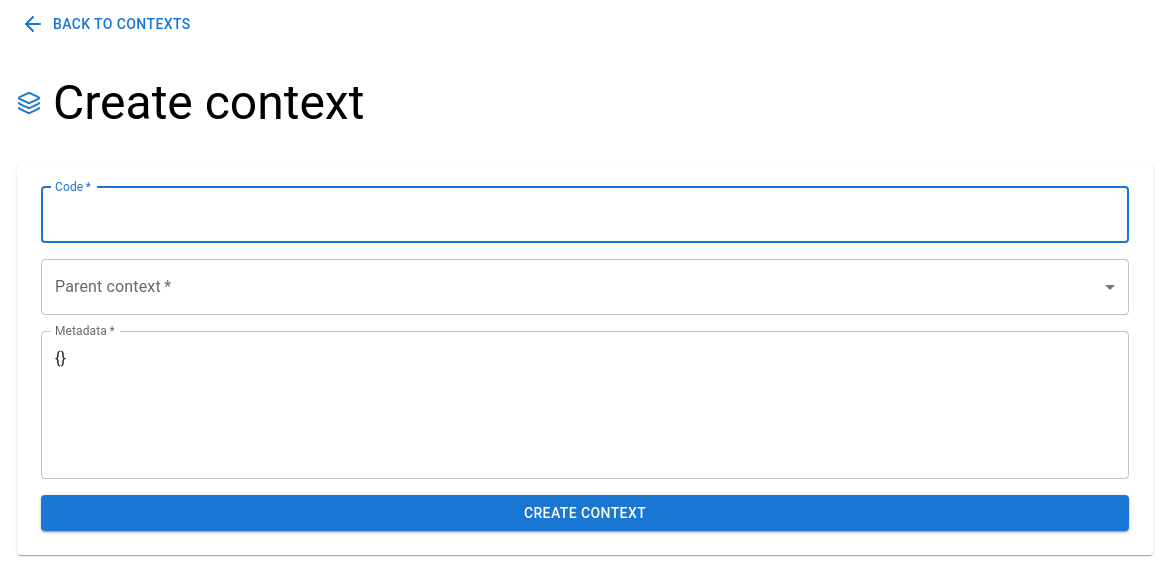
Test case: CreateContextPage › keeps the submitted context fields fixed until creation finishes
The width and height of the screenshot is (1171, 574).
Type "example" into the field labelled "Code" at (585, 214), box x1=41 y1=186 x2=1129 y2=242
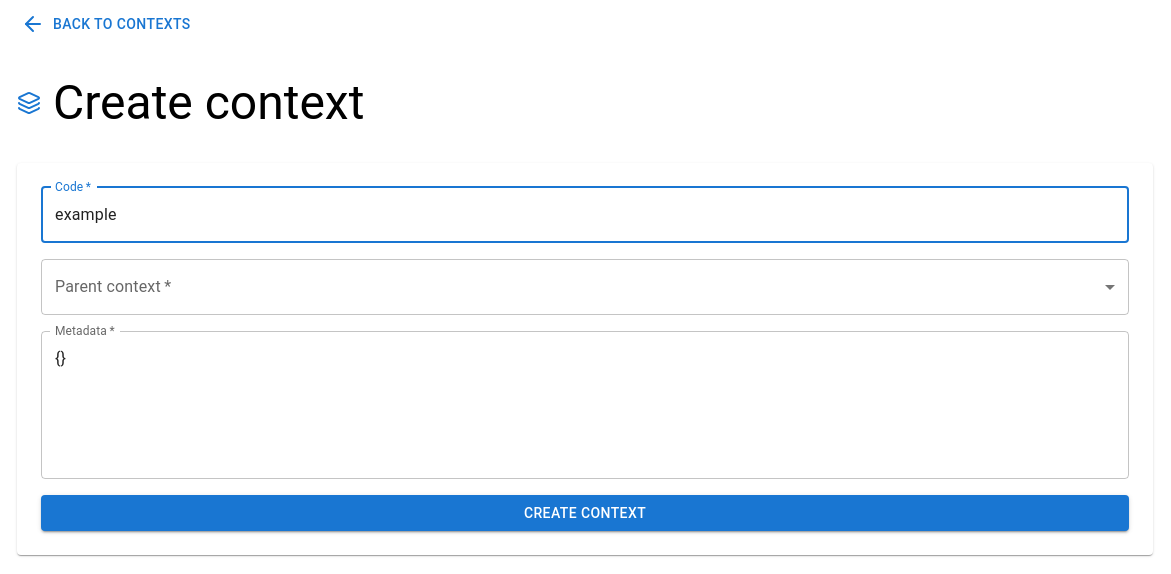
Click the dropdown named "Parent context" at (585, 286), box x1=41 y1=258 x2=1129 y2=314
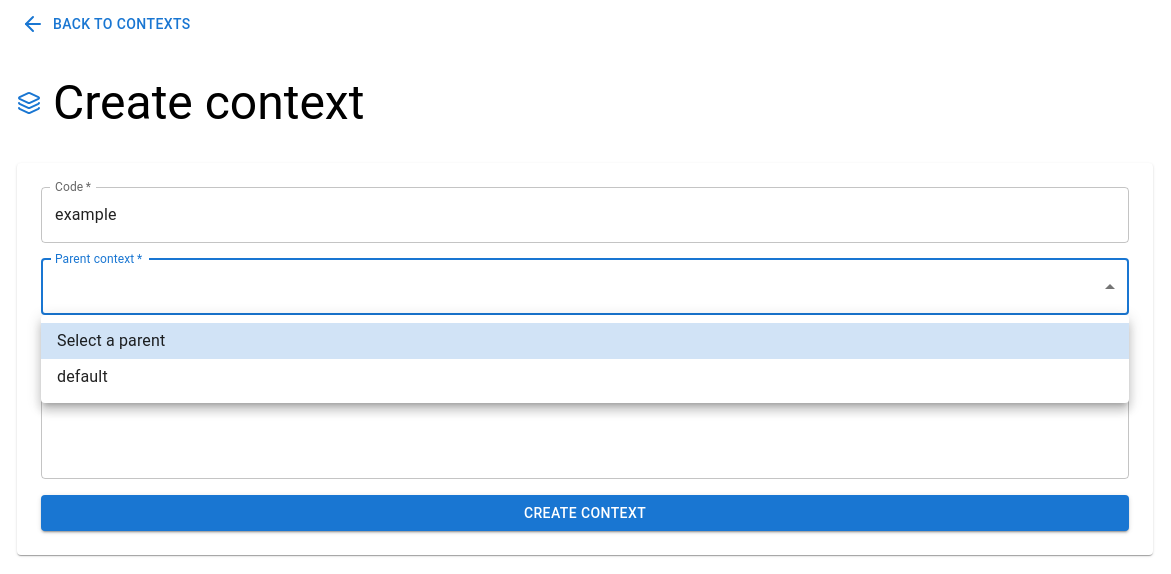
Click the option "default" at (82, 376), box x1=57 y1=367 x2=108 y2=386
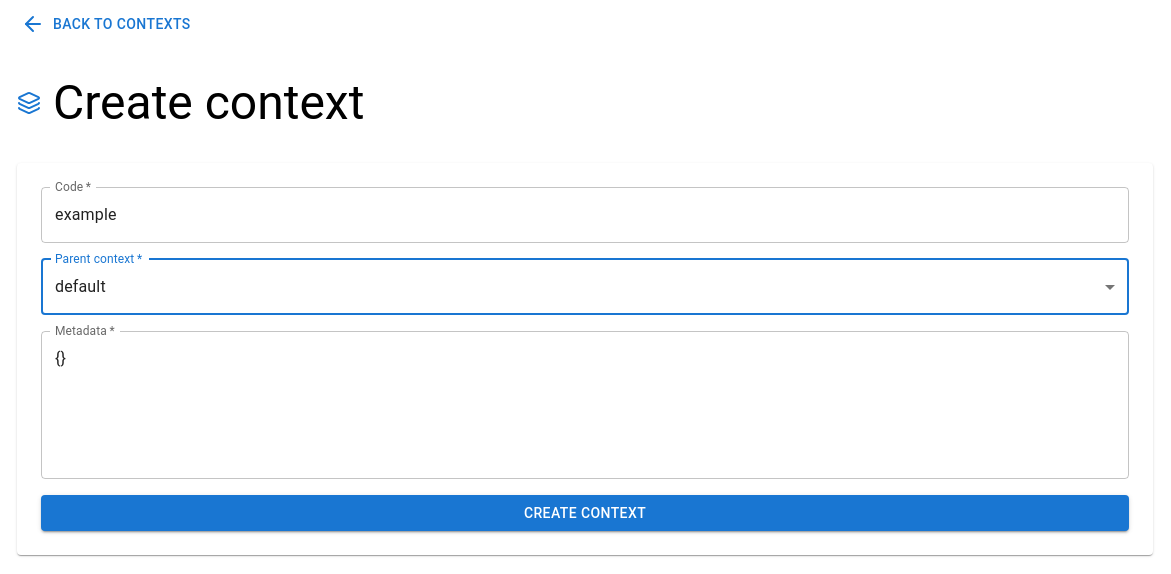
Click the button "Create context" at (585, 513), box x1=41 y1=494 x2=1129 y2=531
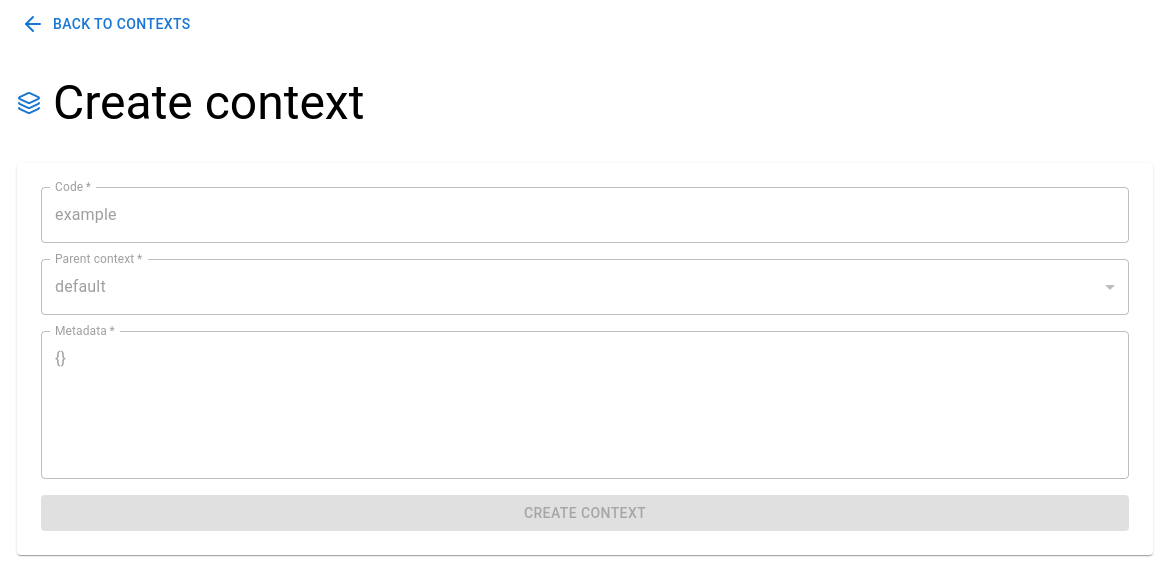
Expected: the field labelled "Code" is disabled, x1=41 y1=186 x2=1129 y2=242
Expected: the text box labelled "Metadata" is disabled, x1=55 y1=347 x2=1115 y2=462
